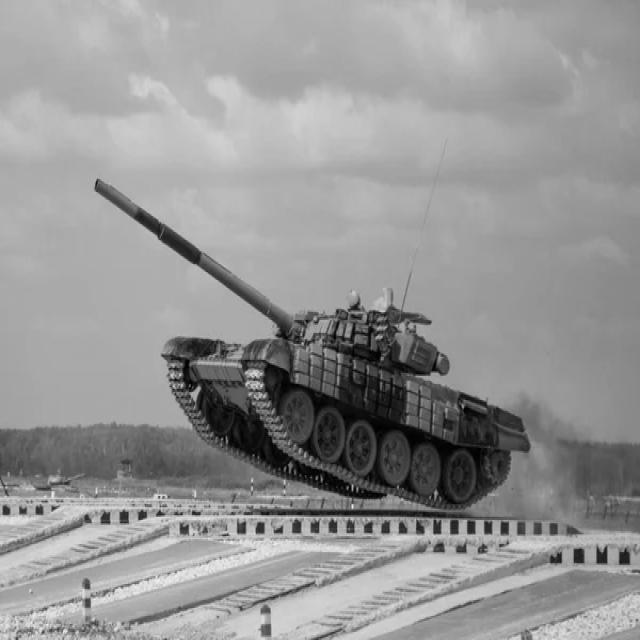Tank: (90, 173, 531, 508)
